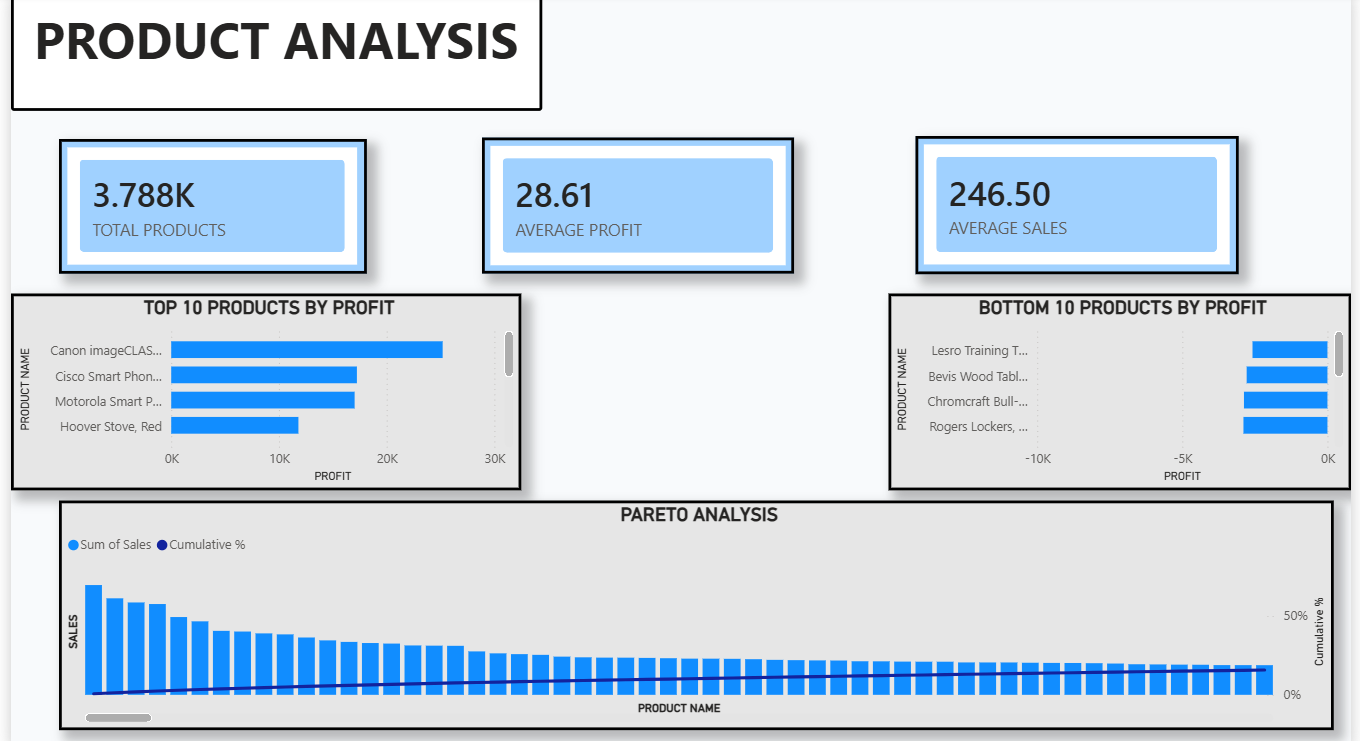

Layout of this report page (visuals, bound fields, positions):
{"tool":"powerbi","page":{"name":"PRODUCT ANALYSIS","canvas":[1280,720],"ordinal":1},"visuals":[{"type":"textbox","box":[0,0,507.3,110.5],"z":0},{"type":"cardVisual","fields":{"Data":["Count(superstore.Product.Name)"]},"box":[45.4,137.8,293.8,128.7],"z":1000},{"type":"cardVisual","fields":{"Data":["Avg(superstore.Profit)"]},"box":[449.7,136.3,298.3,130.2],"z":2000},{"type":"cardVisual","fields":{"Data":["Avg(superstore.Sales)"]},"box":[863.1,134.8,308.9,131.7],"z":3000},{"type":"barChart","title":"TOP 10 PRODUCTS BY PROFIT","fields":{"Category":["superstore.Product.Name"],"Y":["Sum(superstore.Profit)"]},"box":[0,284.7,487.6,187.8],"z":4000},{"type":"barChart","title":"BOTTOM 10 PRODUCTS BY PROFIT","fields":{"Category":["superstore.Product.Name"],"Y":["Sum(superstore.Profit)"]},"box":[837.4,284.7,442.1,187.8],"z":5000},{"type":"lineStackedColumnComboChart","title":"PARETO ANALYSIS","fields":{"Y":["Sum(superstore.Sales)"],"Y2":["MEASURE.Cumulative %"],"Category":["superstore.Product.Name"]},"box":[45.4,483,1217.4,219.6],"z":6000}]}

Visuals, with their boxes in screenshot pixels (x1, y1, x2, y2):
textbox: Rect(7, 0, 540, 106)
cardVisual - Count(superstore.Product.Name): Rect(55, 134, 364, 270)
cardVisual - Avg(superstore.Profit): Rect(480, 133, 793, 270)
cardVisual - Avg(superstore.Sales): Rect(914, 131, 1239, 270)
"TOP 10 PRODUCTS BY PROFIT" barChart: Rect(7, 289, 520, 486)
"BOTTOM 10 PRODUCTS BY PROFIT" barChart: Rect(887, 289, 1352, 486)
"PARETO ANALYSIS" lineStackedColumnComboChart: Rect(55, 497, 1334, 728)
